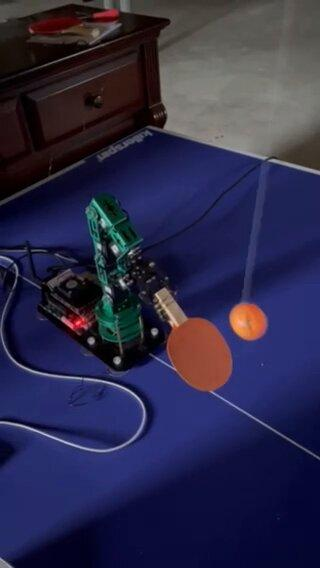oball: (227, 303, 267, 340)
